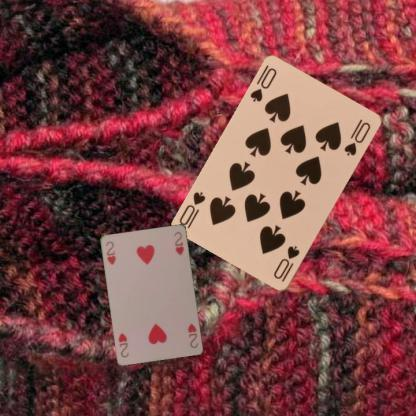10s: (247, 65, 278, 104), (270, 243, 301, 281)
2h: (184, 320, 200, 350), (103, 238, 117, 266)
